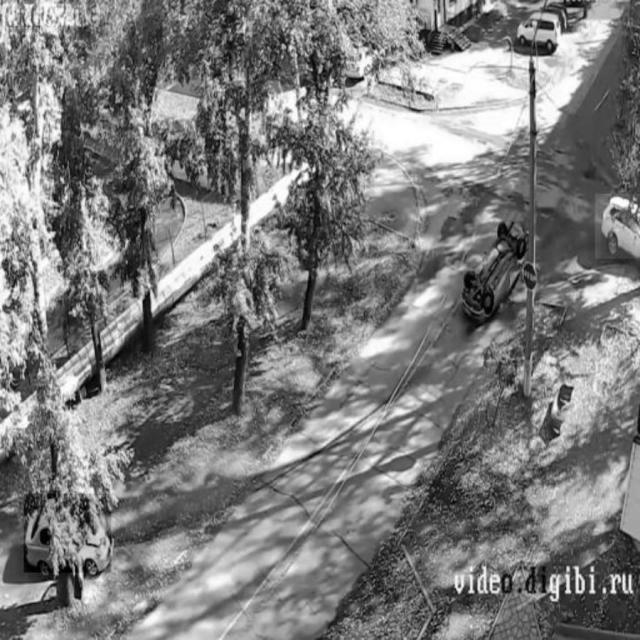vehicle: (24, 495, 112, 573), (464, 221, 525, 322), (595, 195, 640, 259), (517, 9, 565, 51)
